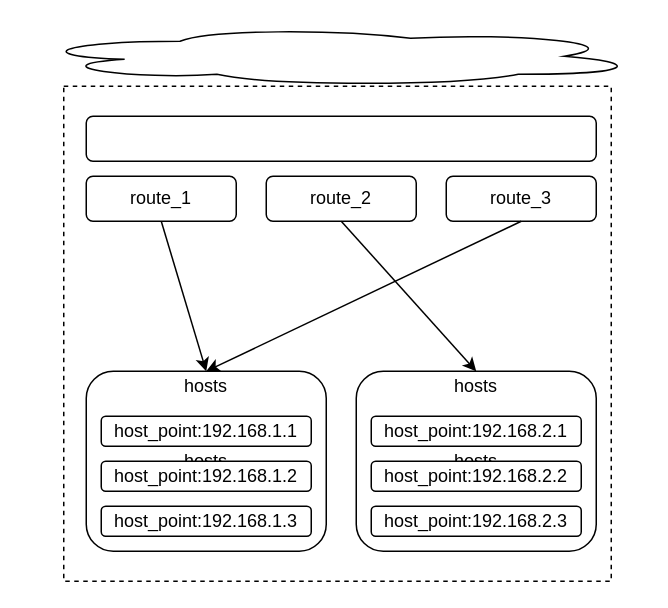
Image size: 668x608. Some labels were removed from this diagram. The centre of each missing label's shape, as x and y in pixels:
"internet" belongs at (x=333, y=55).
"service" belongs at (x=340, y=138).
